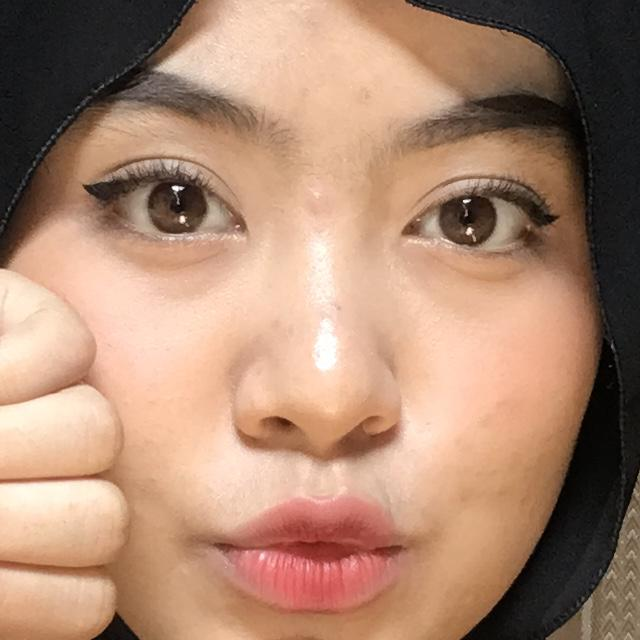sedih: (0, 56, 345, 640)
